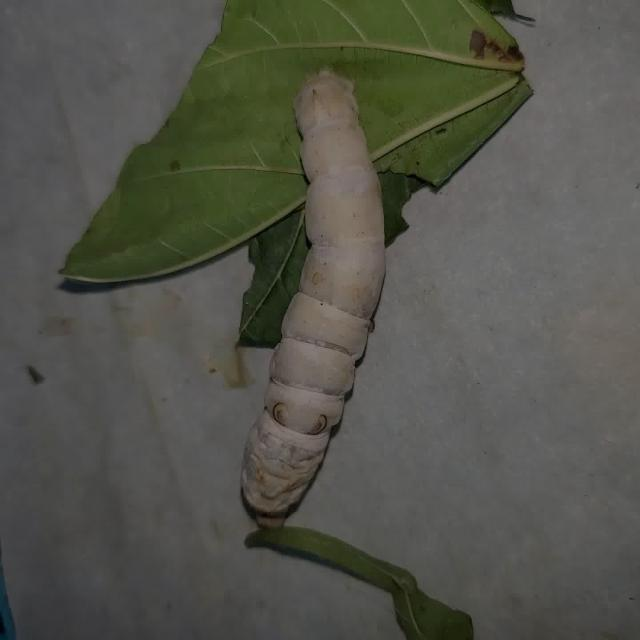Grasserie: (214, 49, 448, 545)
